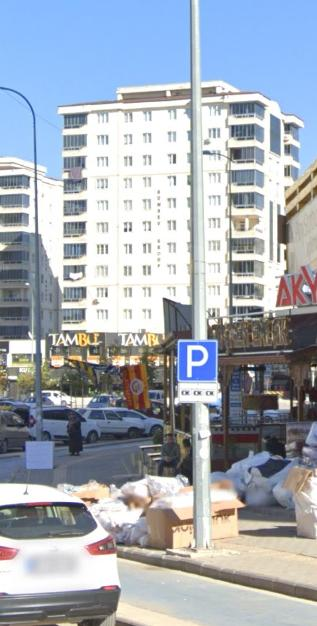park: (178, 342, 218, 380)
